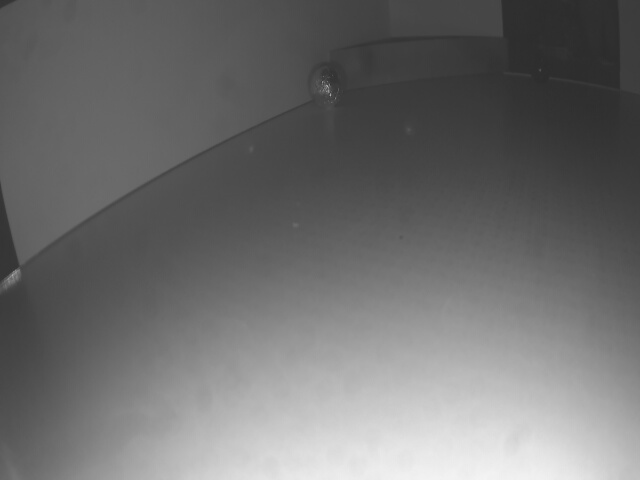Dead: (530, 60, 552, 84)
Green: (327, 39, 510, 94)
Live: (308, 65, 346, 109)
